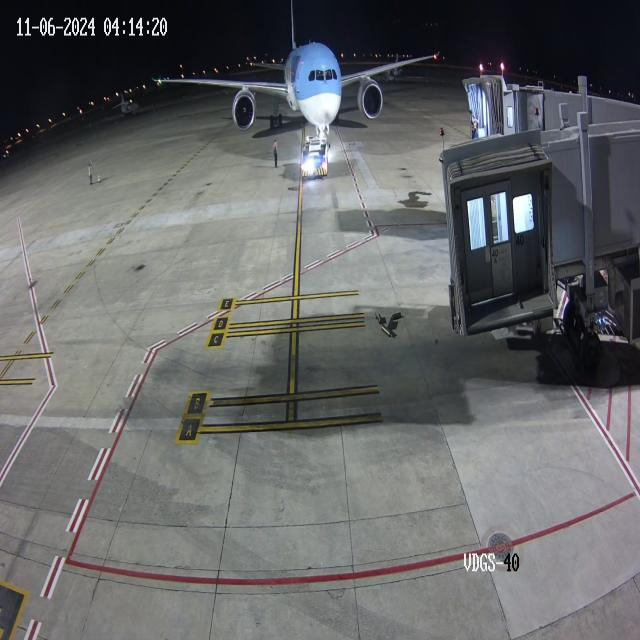bridge: (488, 74, 544, 142)
plane: (143, 8, 444, 142)
window: (305, 60, 341, 89)
